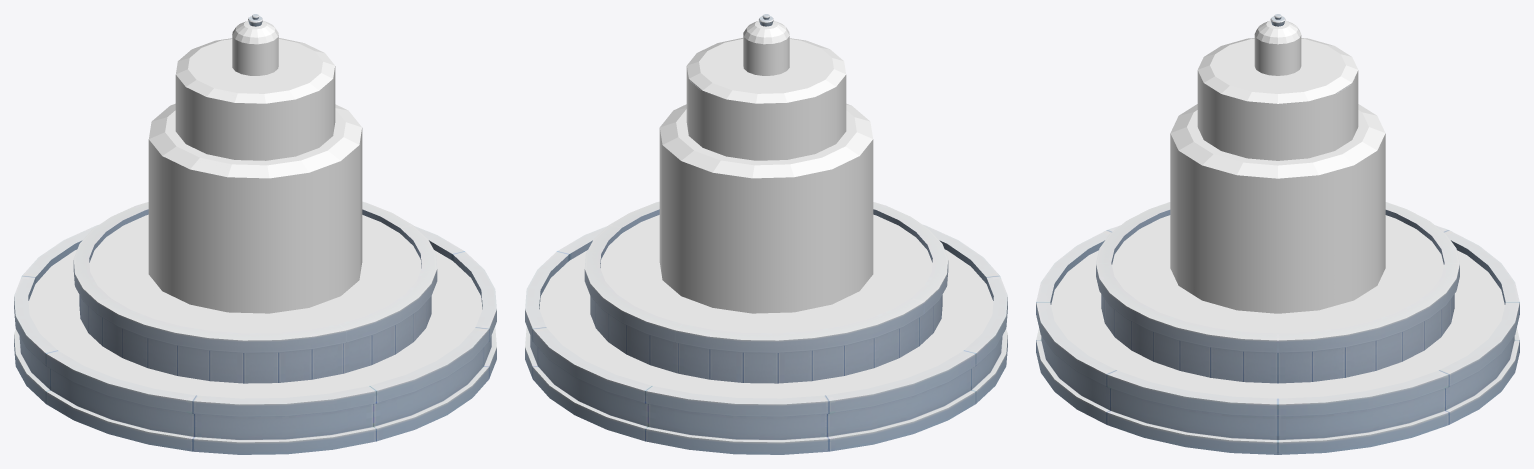
The model's file is my_event02_trinityfountain.glb.
3 renders of one model, left to right at view 1: azimuth 30°, elevation 25°; view 2: azimuth 150°, elevation 25°; view 3: azimuth 270°, elevation 25°, orthographic.
Visible parts, largest first — view 1: my_event02_trinityfountain, water_flow, water_flow2; view 2: my_event02_trinityfountain, water_flow, water_flow2; view 3: my_event02_trinityfountain, water_flow, water_flow2.
Boxes of the visible parts, left/top/right/bottom form: my_event02_trinityfountain: left=14, top=14, right=496, bottom=454; water_flow: left=148, top=20, right=362, bottom=313; water_flow2: left=28, top=45, right=482, bottom=398; my_event02_trinityfountain: left=525, top=14, right=1007, bottom=454; water_flow: left=659, top=20, right=873, bottom=313; water_flow2: left=539, top=45, right=993, bottom=398; my_event02_trinityfountain: left=1036, top=14, right=1519, bottom=454; water_flow: left=1170, top=20, right=1385, bottom=313; water_flow2: left=1051, top=45, right=1504, bottom=398.
Size of the model in its own units: 0.017 by 0.0131 by 0.017.
4 materials, 1 textured.
